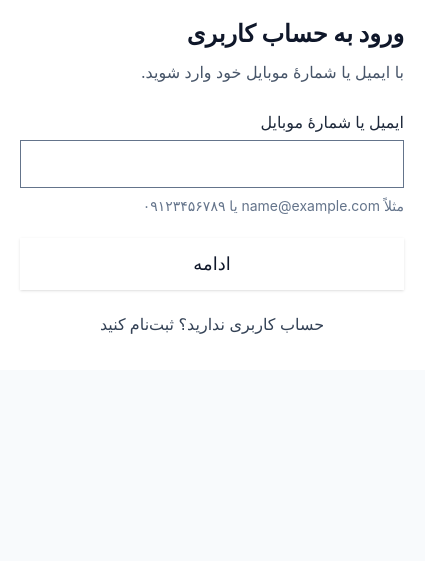
Test: LoginFlow › a password login that needs 2FA moves to the TOTP step and re-sends the same body
Later steps or results of the test are not shown.
Type "sara.ahmadi@example.com" into the field labelled "ایمیل یا شمارهٔ موبایل".
click(212, 164); type("sara.ahmadi@example.com")  # box [21,141,403,187]
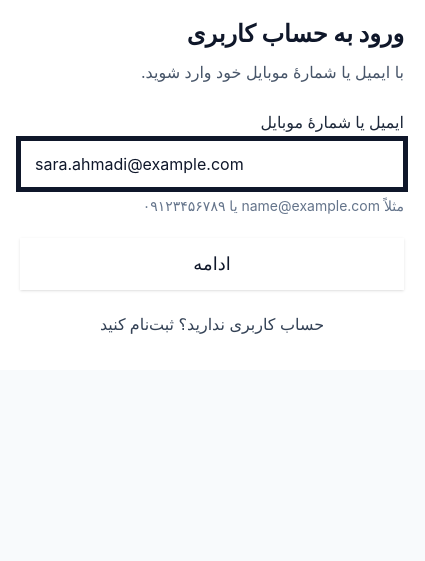
Click the button "ادامه".
click(212, 264)  # box [20,238,404,290]
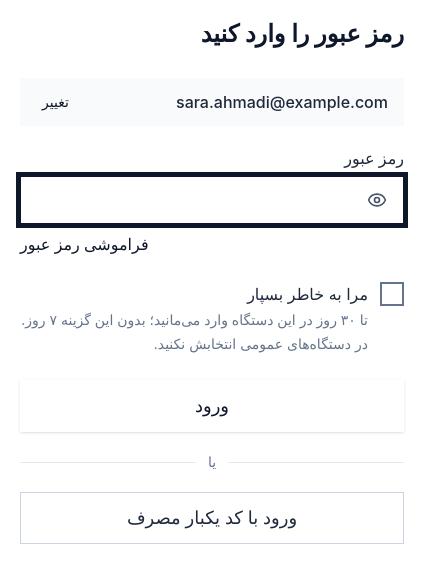
Type "Firefly@1234" into the password field labelled "رمز عبور".
click(188, 200); type("Firefly@1234")  # box [21,177,355,223]
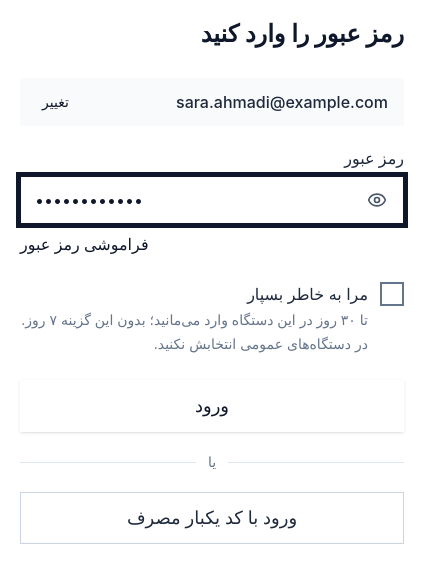
Click the checkbox named "مرا به خاطر بسپار".
click(392, 294)  # box [380,282,404,306]
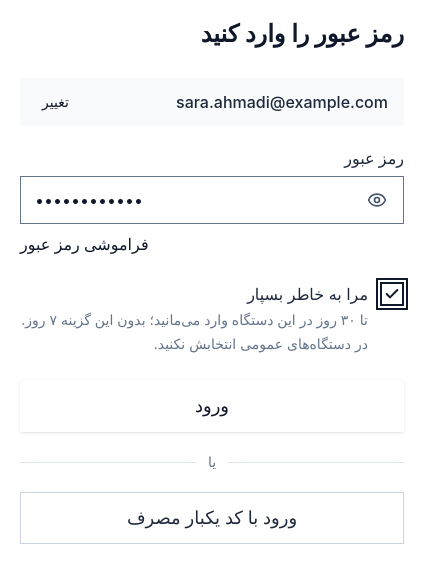
Click the button "ورود".
click(212, 406)  # box [20,380,404,432]
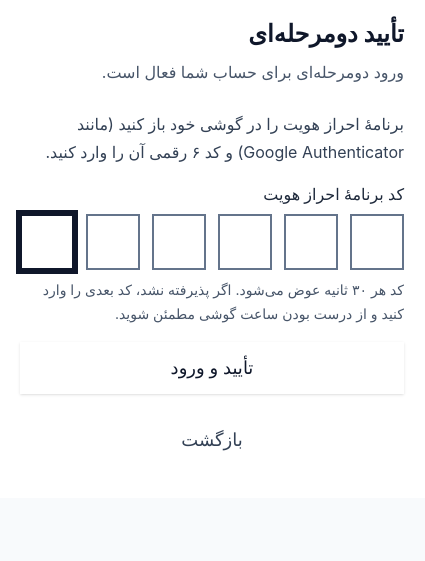
Result: the heading "تأیید دومرحله‌ای" is shown at [248,19,404,48]
